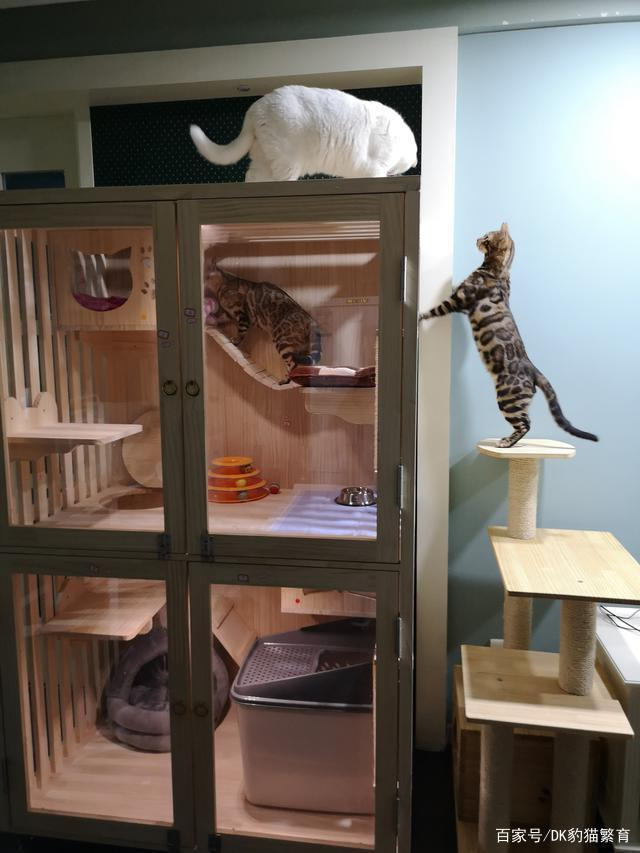cat: (418, 218, 605, 451), (197, 251, 323, 387)
